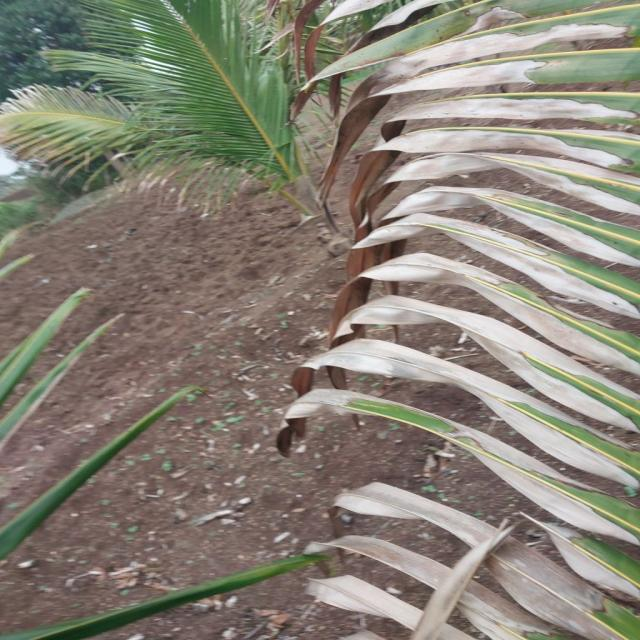gray leaf spot: (277, 0, 640, 640), (265, 450, 638, 640), (325, 0, 388, 22)
